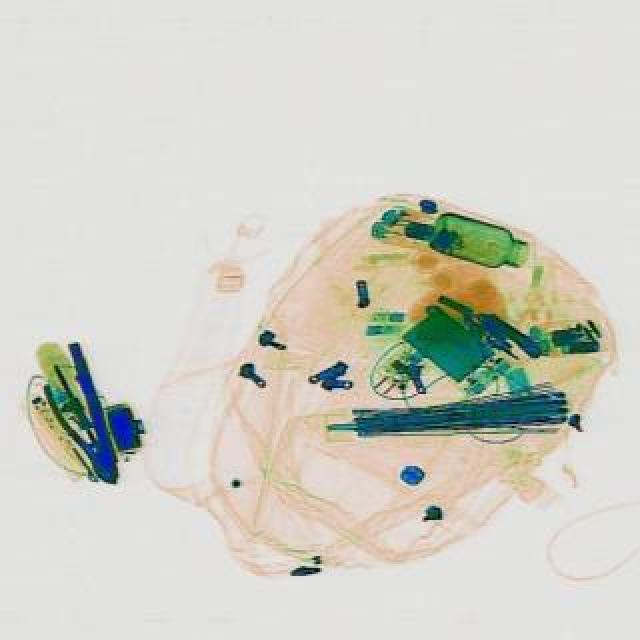wrench: (38, 366, 138, 490)
